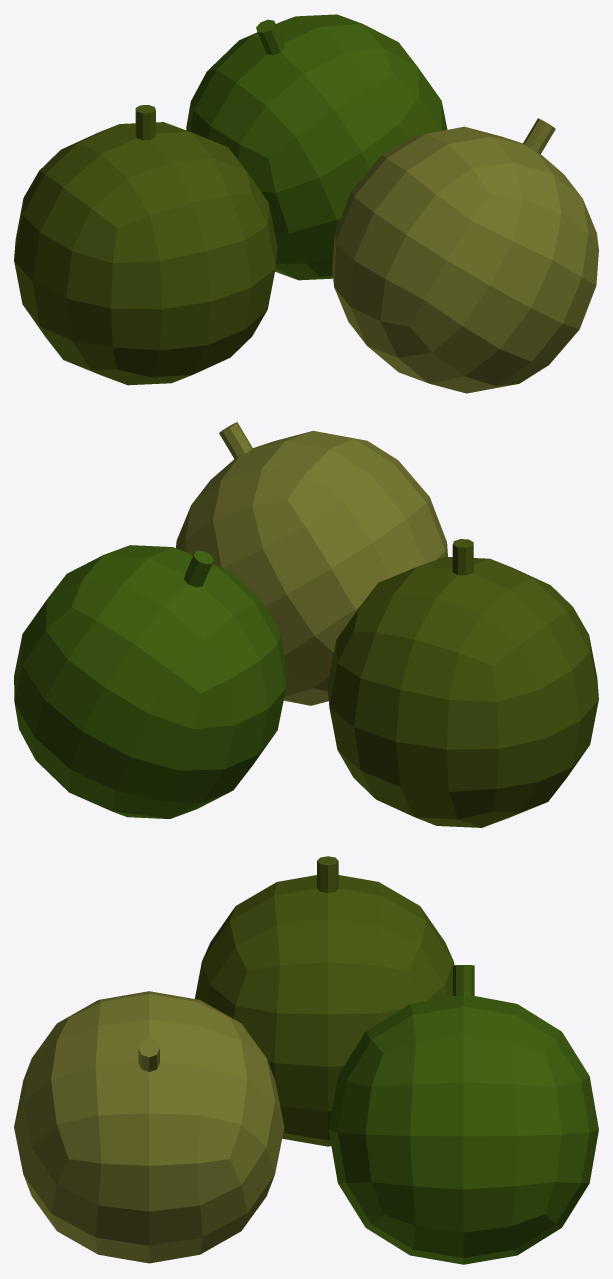
The model's file is Calamansi.fbx.
3 views of the same model, one above another, from view 1: azimuth 30°, elevation 25°; view 2: azimuth 150°, elevation 25°; view 3: azimuth 270°, elevation 25° (orthographic). The views are drawn at different scales.
Visible parts, largest first — view 1: Calamansi; view 2: Calamansi; view 3: Calamansi.
Boxes of the visible parts, x1,y1,x2,y2 form: Calamansi: (14, 14, 598, 393); Calamansi: (14, 422, 598, 827); Calamansi: (14, 856, 598, 1264).
Bounding box in the file's own units: 24.95 × 13.55 × 26.27.
